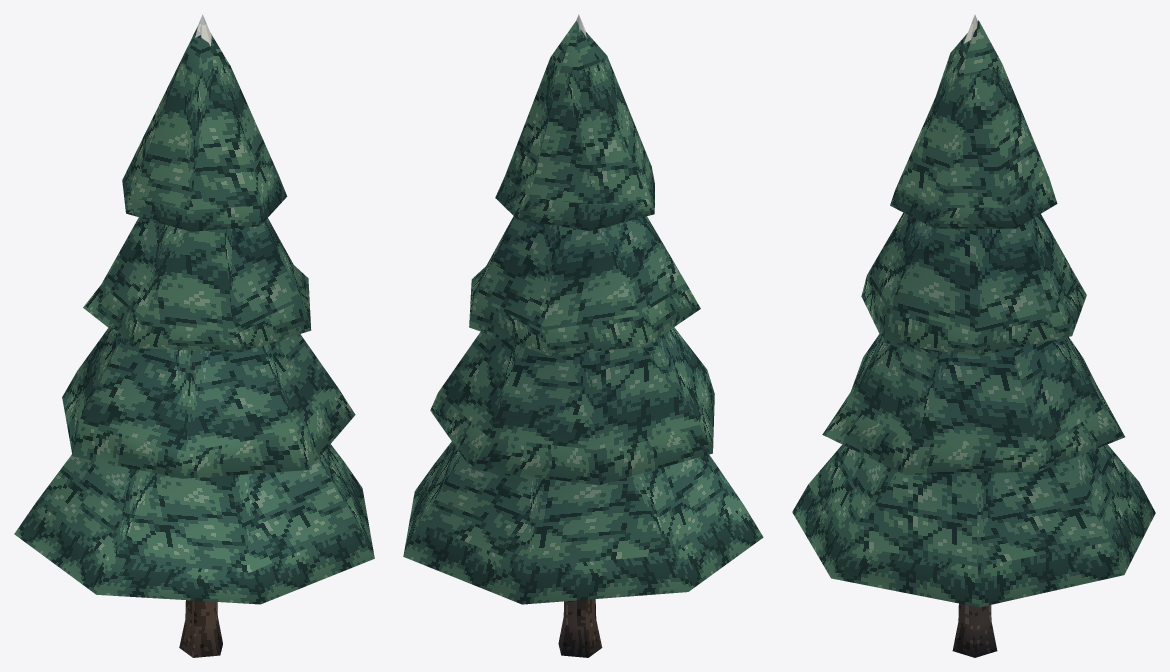
File: mnat.pine__snowy.glb
The picture shows the model from 3 angles, left to right: view 1: azimuth 30°, elevation 25°; view 2: azimuth 150°, elevation 25°; view 3: azimuth 270°, elevation 25°; orthographic projection.
Visible parts, largest first — view 1: kit_tiers, kit_trunk; view 2: kit_tiers, kit_trunk; view 3: kit_tiers, kit_trunk.
Part boxes in pixels (x1,y1,x2,y2): kit_tiers: [14, 26, 374, 604]; kit_trunk: [179, 600, 222, 657]; kit_tiers: [403, 21, 763, 604]; kit_trunk: [558, 599, 602, 657]; kit_tiers: [792, 20, 1155, 607]; kit_trunk: [952, 603, 997, 657].
Size of the model in its own units: 4.52 by 8.82 by 4.59.
3 materials, 3 textured.
